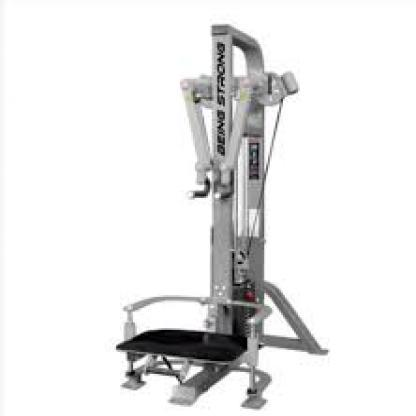lateral raises machine: (113, 20, 329, 408)
